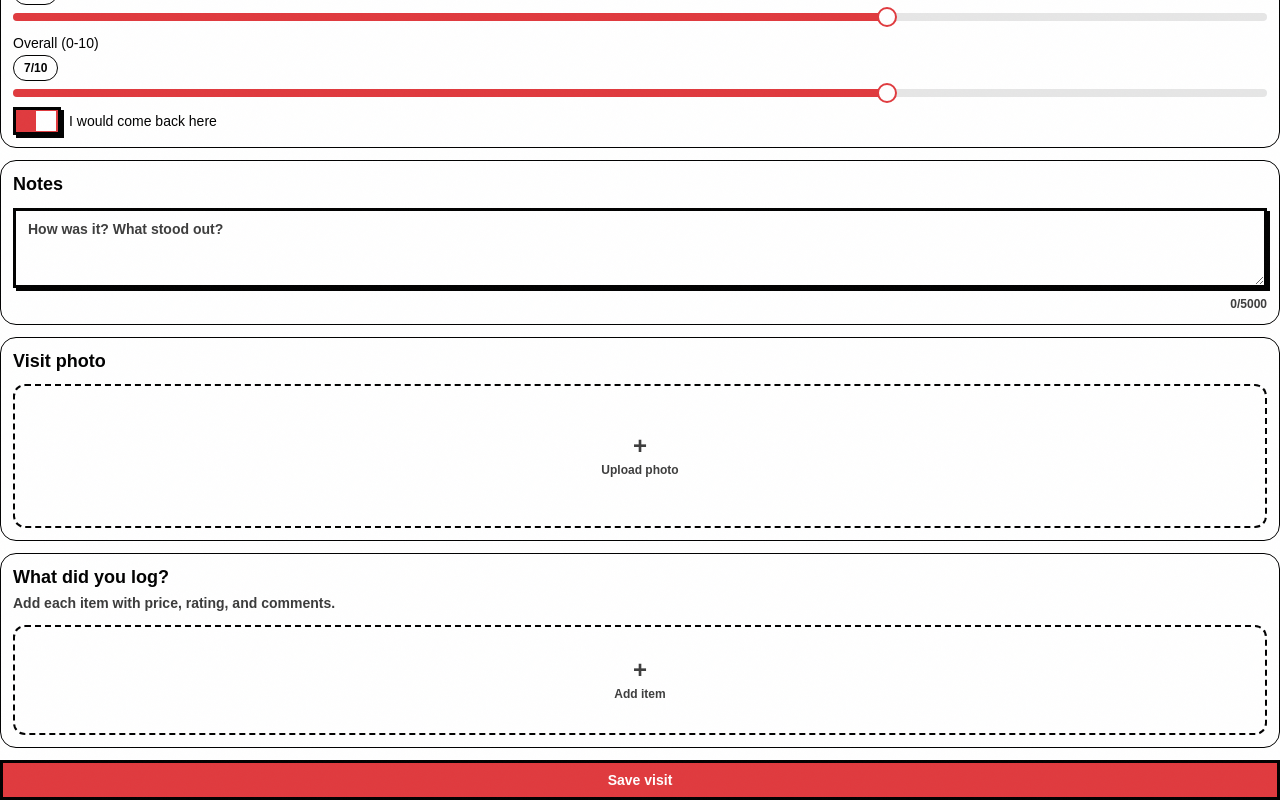
Test: renders translated visit item labels instead of raw i18n keys
The image size is (1280, 800).
(page scrolled)
Check: the heading "Notes" is shown, box [13,174,63,194]
Check: the heading "What did you log?" is shown, box [13,567,169,587]
Click the button "+ Add item": [640, 680] box [13,624,1267,734]
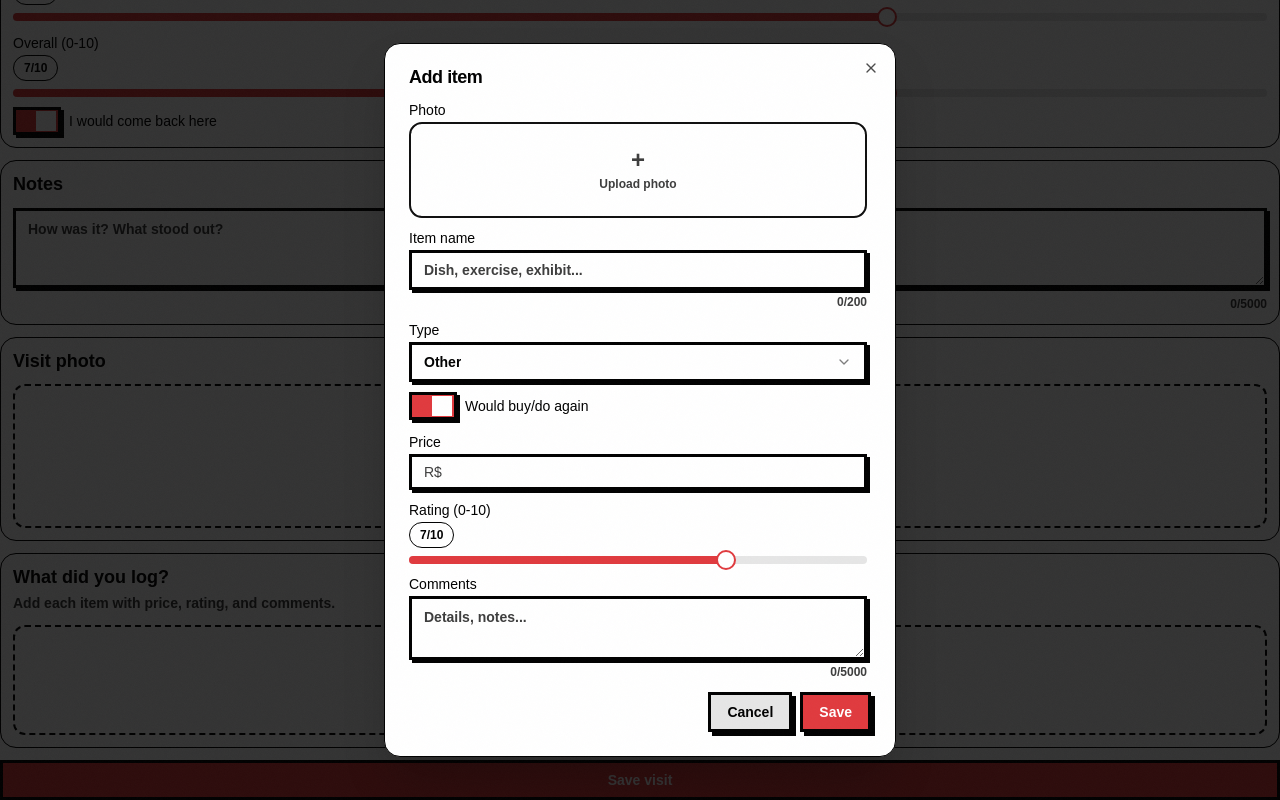
Check: the dropdown reads "Other", box [409,342,867,382]
